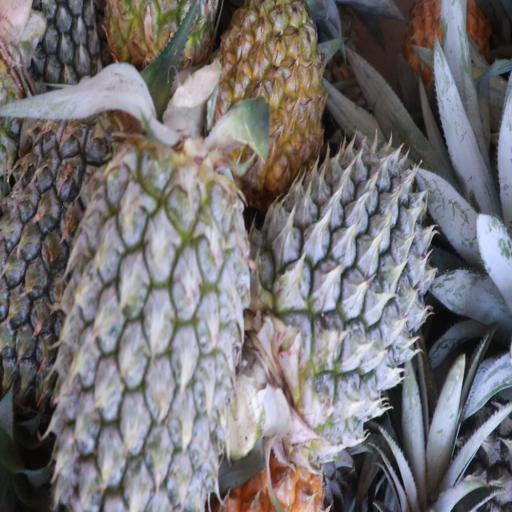Pineapple - v8 v1: (213, 0, 330, 180)
